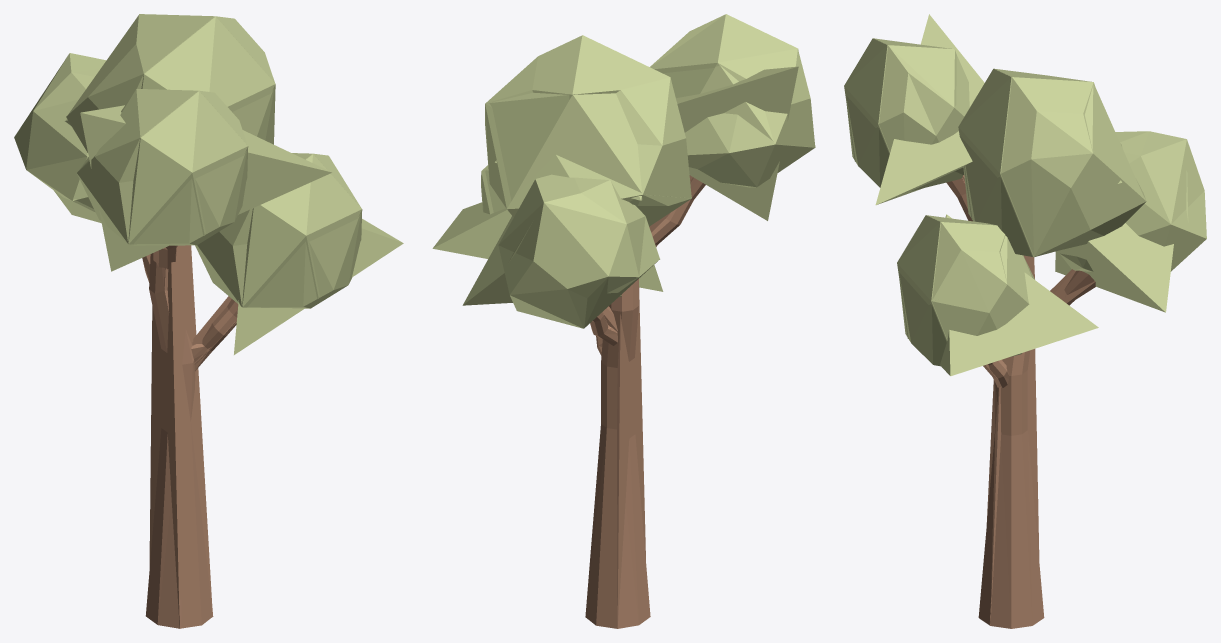
Rendered from tree.glb.
3 renders of one model, left to right at view 1: azimuth 30°, elevation 25°; view 2: azimuth 150°, elevation 25°; view 3: azimuth 270°, elevation 25°, orthographic. The views are drawn at different scales.
Parts seen in each view (by area): view 1: leaf (×3), tribe (×2); view 2: leaf (×3), tribe (×2); view 3: leaf (×3), tribe (×2).
Part boxes in pixels (box(x1,y1,x2,y2)): leaf (×3): box(14, 14, 403, 354); tribe (×2): box(142, 245, 238, 628); leaf (×3): box(432, 14, 815, 328); tribe (×2): box(585, 175, 705, 628); leaf (×3): box(844, 14, 1206, 376); tribe (×2): box(946, 175, 1095, 628).
Bounding box in the file's own units: 2.5 × 4.2 × 2.48.
